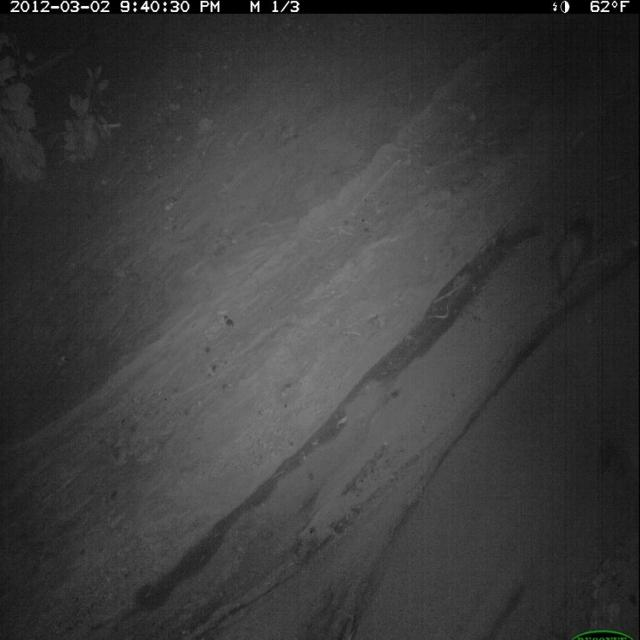opossum: (543, 205, 603, 311)
